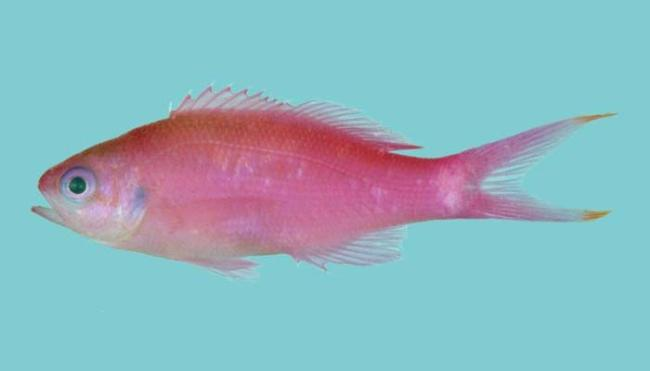fish: (32, 81, 621, 272)
